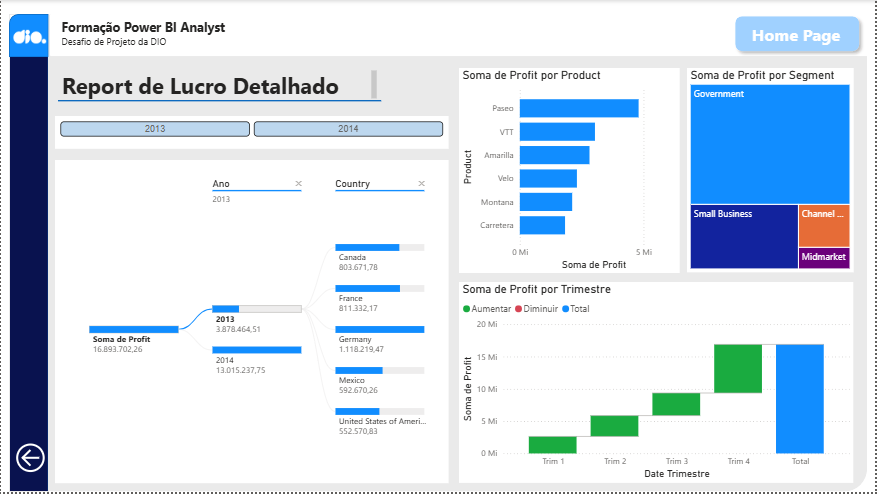

The dashboard page shown, as its layout file describes it:
{"tool":"powerbi","page":{"name":"Profit","canvas":[1280,720],"ordinal":1},"visuals":[{"type":"actionButton","title":"Home Page","box":[1064.7,14.6,199.6,69.2],"z":0,"group":"g2"},{"type":"shape","box":[42.6,20.7,1225.3,699.3],"z":0},{"type":"shape","box":[83.9,127.8,473,37.1],"z":0,"group":"g1"},{"type":"shape","box":[12.4,20.2,57.7,699.8],"z":1000},{"type":"textbox","box":[1076.9,29.4,173,42.6],"z":1000,"group":"g2"},{"type":"textbox","box":[85.3,97.6,470.2,52.2],"z":1000,"group":"g1"},{"type":"shape","box":[12.4,20.6,57.7,63.2],"z":2000},{"type":"image","box":[13.7,33,57.7,39.9],"z":3000},{"type":"shape","title":"Fundo do Título","box":[71.5,20.6,1198.9,61.9],"z":4000},{"type":"textbox","title":"Título do report","box":[83.9,22,378.1,63.2],"z":5000},{"type":"shape","box":[79.7,233.7,576.1,473],"z":6000},{"type":"decompositionTreeVisual","fields":{"Analyze":["Sum(financials.Profit)"],"ExplainBy":["financials.Date.Variation.Hierarquia de datas.Ano","financials.Country"]},"box":[99.8,242.2,536.3,456.5],"z":7000},{"type":"waterfallChart","fields":{"Category":["financials.Date.Variation.Hierarquia de datas.Trimestre"],"Y":["Sum(financials.Profit)"]},"box":[670.9,412.5,577.4,294.2],"z":8000},{"type":"ChicletSlicer1448559807354","fields":{"Category":["financials.Date.Variation.Hierarquia de datas.Ano"]},"box":[79.7,170.5,576.1,48.1],"z":9000},{"type":"treemap","fields":{"Group":["financials.Segment"],"Values":["Sum(financials.Profit)"]},"box":[1004.5,99.1,243.6,299],"z":10000},{"type":"group","id":"g1","title":"Sales report","box":[83.9,97.6,473,67.4],"z":11000},{"type":"actionButton","box":[15.9,622.4,54,96.9],"z":12000},{"type":"group","id":"g2","title":"Botão home","box":[1064.7,14.6,199.6,69.2],"z":13000},{"type":"clusteredBarChart","fields":{"Category":["financials.Product"],"Y":["Sum(financials.Profit)"]},"box":[670.2,99.5,323.4,300],"z":14000}]}

Visuals, with their boxes in screenshot pixels (x1, y1, x2, y2), scaled from the page's 1280x720 canvas onto the 877x495 screenshot:
"Home Page" actionButton: [x1=729, y1=10, x2=866, y2=58]
shape: [x1=29, y1=14, x2=869, y2=494]
shape: [x1=57, y1=88, x2=382, y2=113]
shape: [x1=8, y1=14, x2=48, y2=494]
textbox: [x1=738, y1=20, x2=856, y2=50]
textbox: [x1=58, y1=67, x2=381, y2=103]
shape: [x1=8, y1=14, x2=48, y2=58]
image: [x1=9, y1=23, x2=49, y2=50]
"Fundo do Título" shape: [x1=49, y1=14, x2=870, y2=57]
"Título do report" textbox: [x1=57, y1=15, x2=317, y2=59]
shape: [x1=55, y1=161, x2=449, y2=486]
decompositionTreeVisual - Sum(financials.Profit) x financials.Date.Variation.Hierarquia de datas.Ano: [x1=68, y1=167, x2=436, y2=480]
waterfallChart - financials.Date.Variation.Hierarquia de datas.Trimestre x Sum(financials.Profit): [x1=460, y1=284, x2=855, y2=486]
ChicletSlicer1448559807354 - financials.Date.Variation.Hierarquia de datas.Ano: [x1=55, y1=117, x2=449, y2=150]
treemap - financials.Segment x Sum(financials.Profit): [x1=688, y1=68, x2=855, y2=274]
"Sales report" group: [x1=57, y1=67, x2=382, y2=113]
actionButton: [x1=11, y1=428, x2=48, y2=494]
"Botão home" group: [x1=729, y1=10, x2=866, y2=58]
clusteredBarChart - financials.Product x Sum(financials.Profit): [x1=459, y1=68, x2=681, y2=275]
